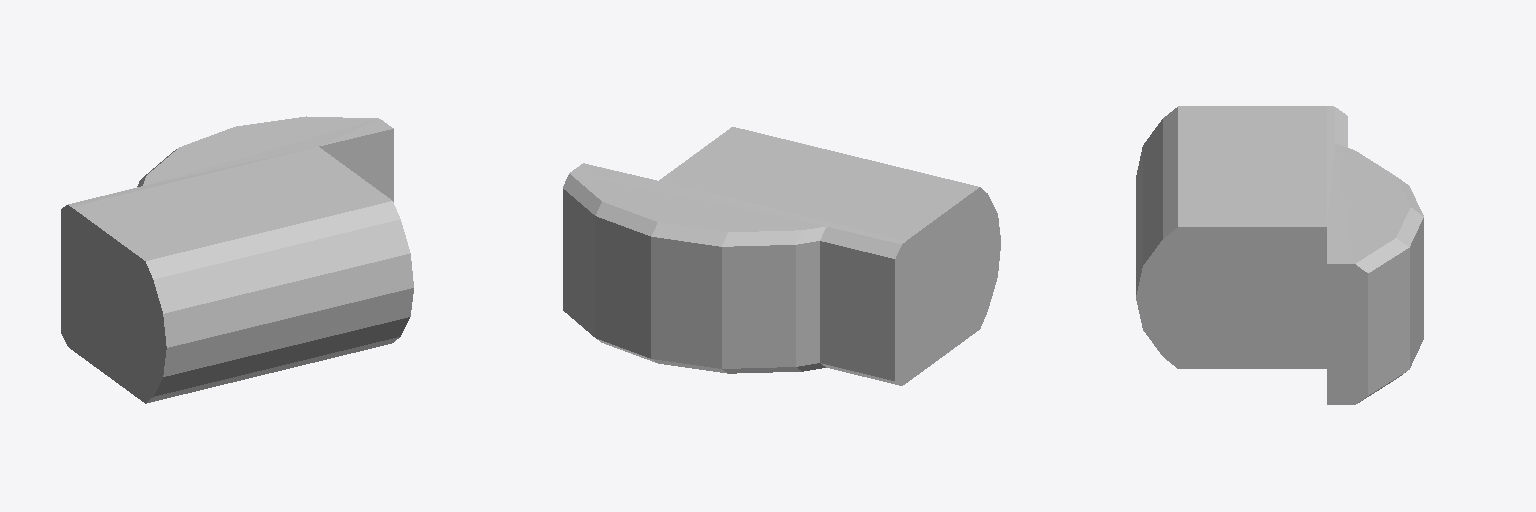
File: LHipRoll.obj
3 views of the same model, side by side, from view 1: azimuth 30°, elevation 25°; view 2: azimuth 150°, elevation 25°; view 3: azimuth 270°, elevation 25° (orthographic).
Parts seen in each view (by area): view 1: root; view 2: root; view 3: root.
Part boxes in pixels (x1,y1,x2,y2): root: (61,116,413,403); root: (563,127,1000,385); root: (1136,106,1423,404).
Size of the model in its own units: 66.88 by 28.22 by 51.72.